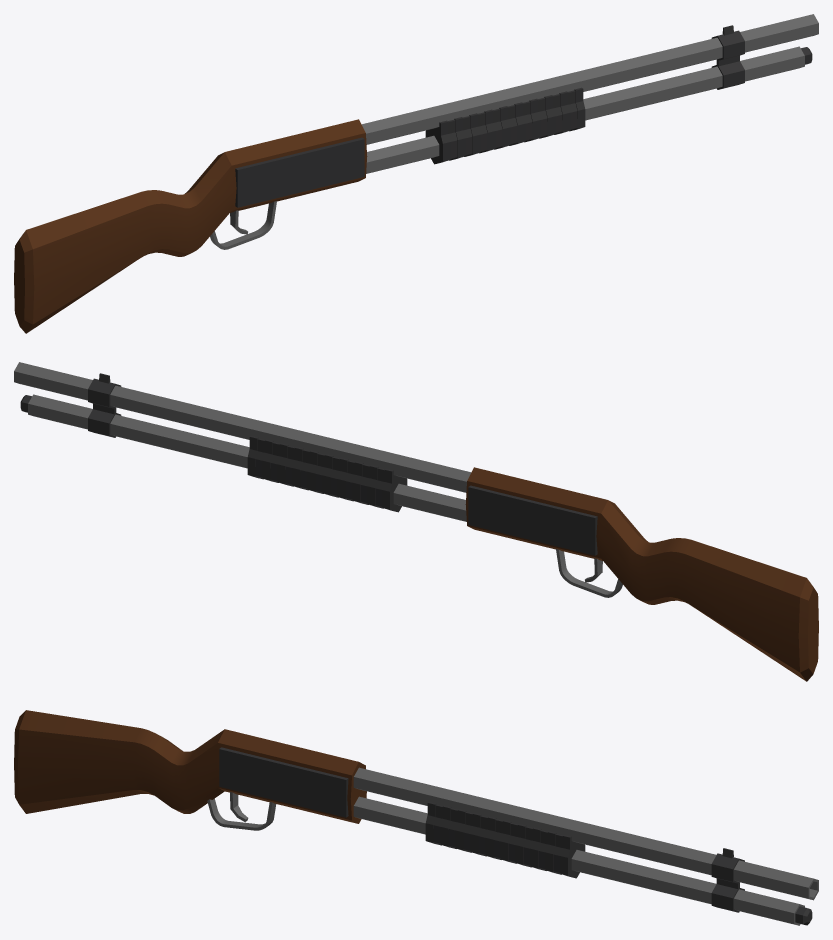
Rendered from Pump Shotgun.fbx.
3 views of the same model, one above another, from view 1: azimuth 30°, elevation 25°; view 2: azimuth 150°, elevation 25°; view 3: azimuth 330°, elevation 25° (orthographic).
Parts seen in each view (by area): view 1: Pump Shotgun; view 2: Pump Shotgun; view 3: Pump Shotgun.
Boxes of the visible parts, <box> form: Pump Shotgun: <box>14,14,818,333</box>; Pump Shotgun: <box>14,362,818,681</box>; Pump Shotgun: <box>14,710,818,925</box>.
Size of the model in its own units: 2941 by 481 by 118.
